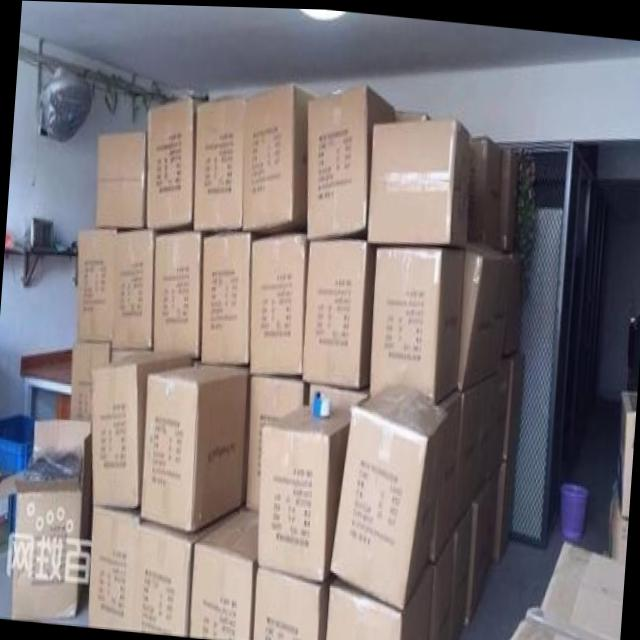box: (329, 379, 446, 609), (140, 363, 249, 533), (0, 419, 91, 622), (257, 403, 350, 580), (91, 350, 190, 507), (369, 243, 465, 398), (134, 506, 242, 636), (367, 114, 471, 245), (306, 82, 394, 236), (302, 238, 374, 387), (242, 83, 308, 230), (188, 508, 258, 640), (455, 355, 510, 522), (325, 560, 433, 640), (539, 536, 625, 636), (243, 374, 304, 510), (457, 238, 511, 390), (250, 230, 306, 375), (200, 229, 251, 364), (147, 95, 198, 229), (194, 91, 243, 228), (87, 505, 138, 631), (152, 231, 201, 357), (429, 387, 461, 561), (250, 563, 320, 640), (112, 229, 154, 348), (95, 132, 146, 226), (466, 470, 496, 621), (76, 227, 114, 340), (507, 604, 619, 640), (467, 133, 502, 243), (70, 340, 111, 422), (429, 528, 454, 640), (451, 502, 471, 640), (501, 349, 525, 456), (493, 455, 517, 562), (618, 387, 636, 514)
